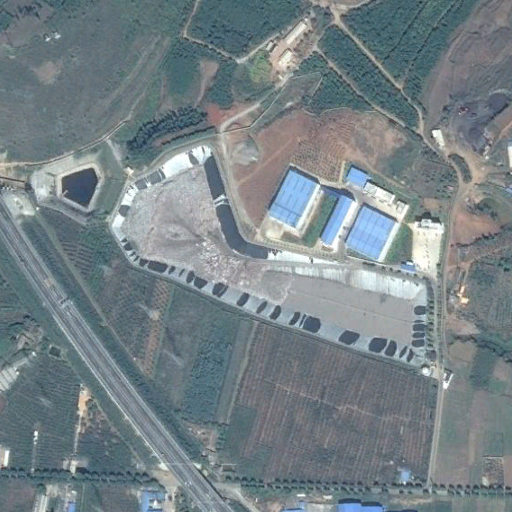lf: (112, 145, 429, 369)
